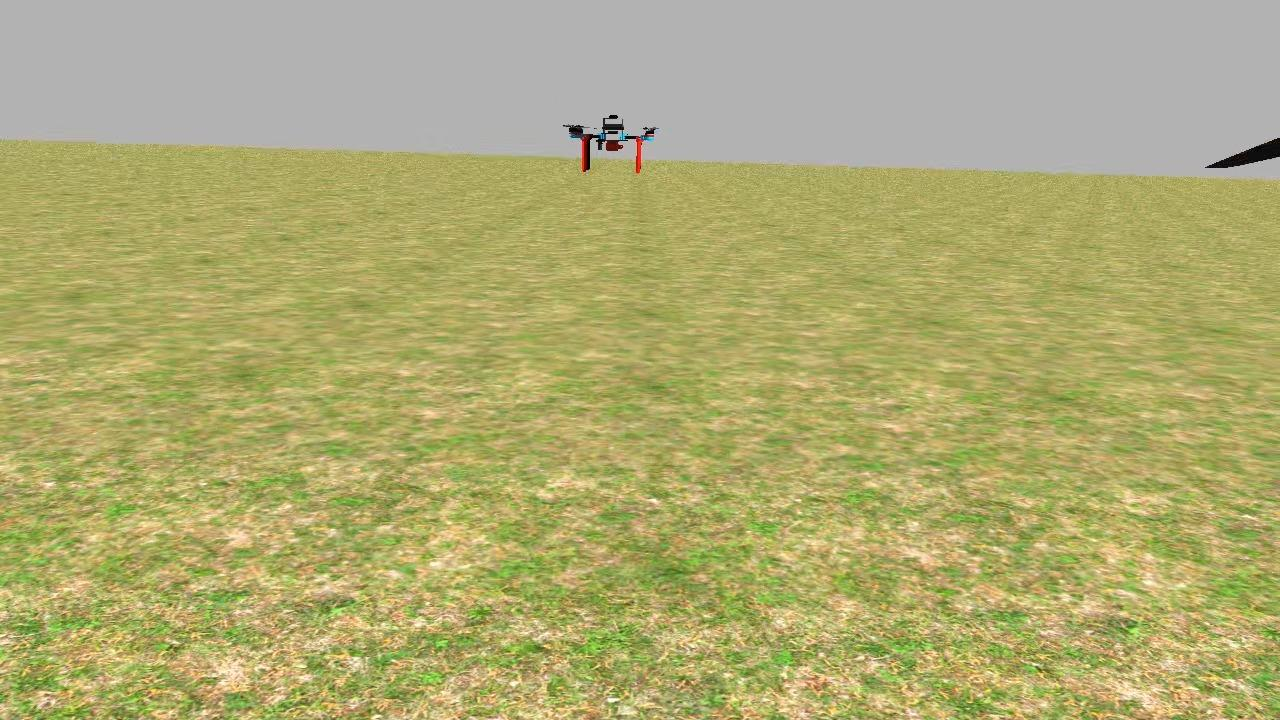UAV: (564, 108, 656, 178)
